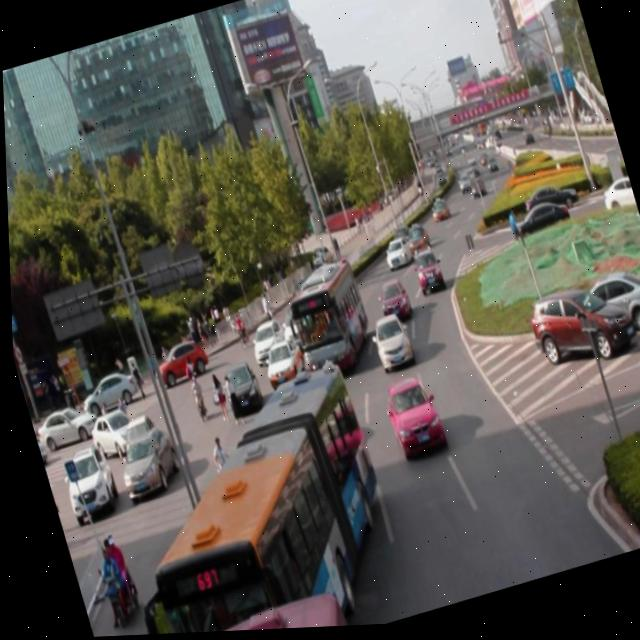car: (376, 376, 442, 463), (261, 364, 325, 439), (212, 354, 262, 419), (364, 313, 412, 375), (256, 338, 306, 392), (241, 314, 288, 370), (273, 300, 318, 353), (406, 245, 442, 297), (373, 280, 409, 325), (378, 238, 410, 274), (401, 225, 427, 256)
van: (108, 363, 406, 637), (278, 258, 373, 381), (176, 584, 345, 634)
